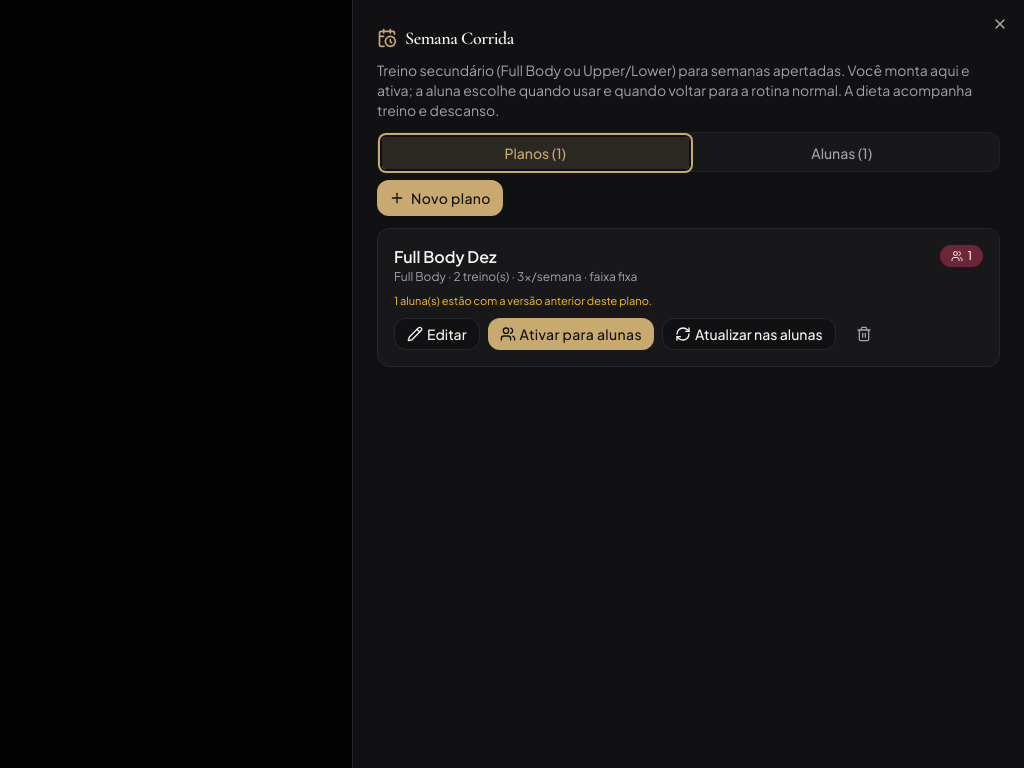
Test: Semana Corrida — biblioteca do coach › aba Alunas mostra se ela está usando, ajuste e versão anterior; desativar
Later steps or results of the test are not shown.
Step 1. Click the tab "Alunas (1)" → click(842, 153), box [688,137,995,169]
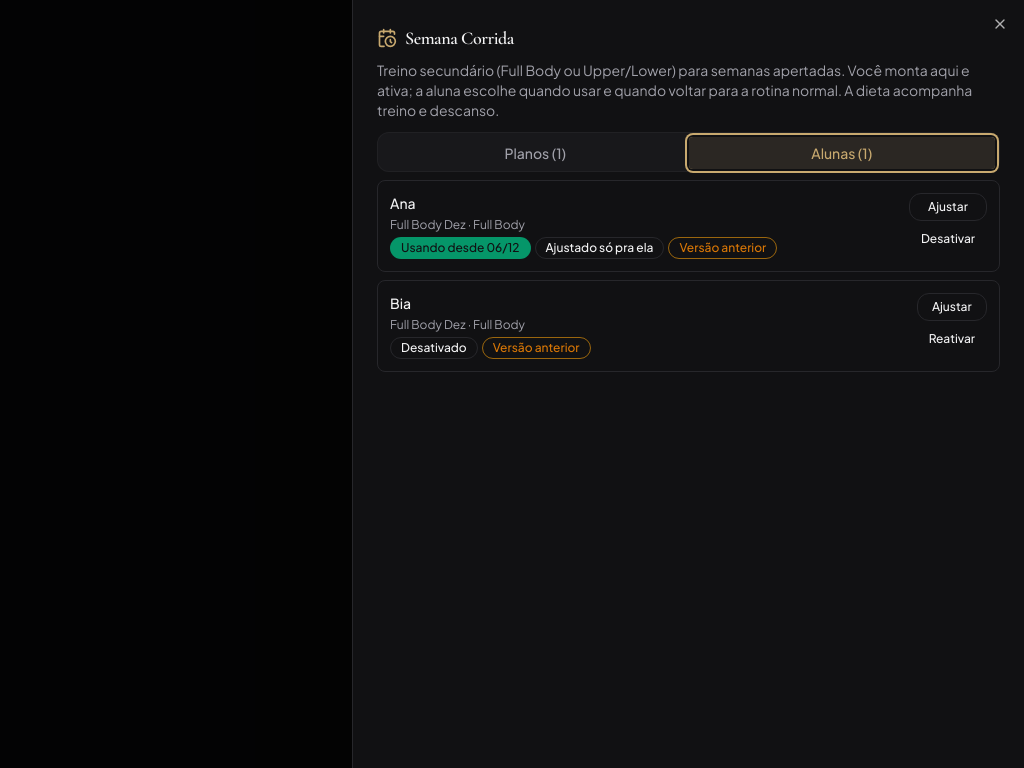
Expected: the element with test id "busy-assignment-s1" shows "Usando desde 06/12", [377,180,1000,272]
Expected: the element with test id "busy-assignment-s1" shows "Ajustado só pra ela", [546,240,653,255]
Expected: the element with test id "busy-assignment-s1" shows "Versão anterior", [679,240,766,255]
